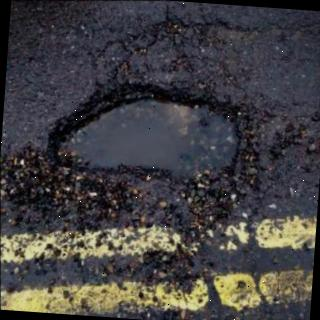pothole: (53, 83, 254, 182)
